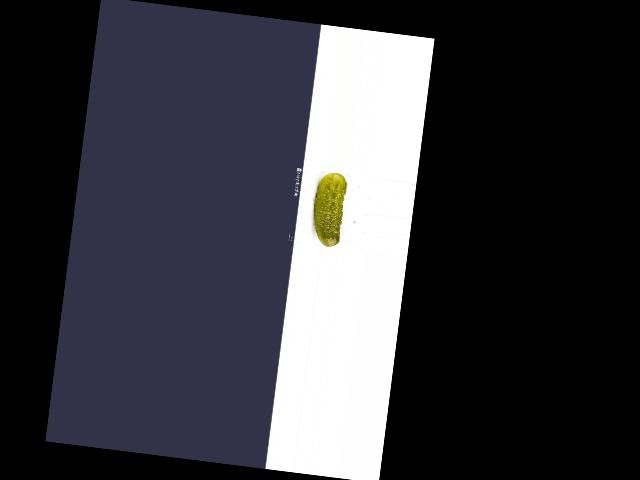cucumber: (309, 171, 348, 249)
